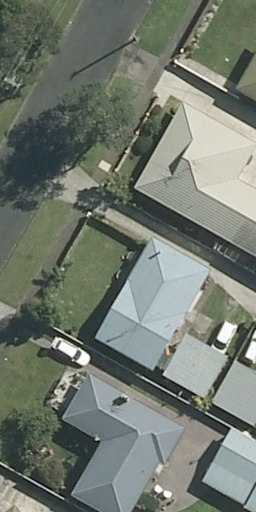DT: (126, 27, 140, 48)
